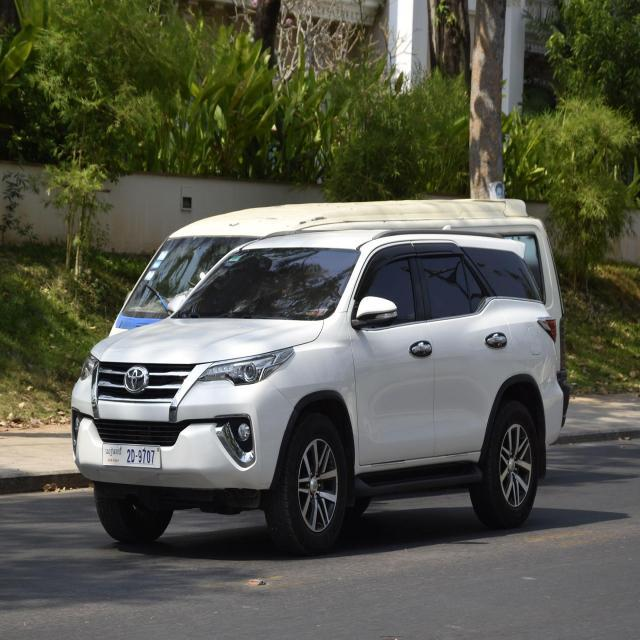Siem_Reap: (105, 447, 121, 458)
